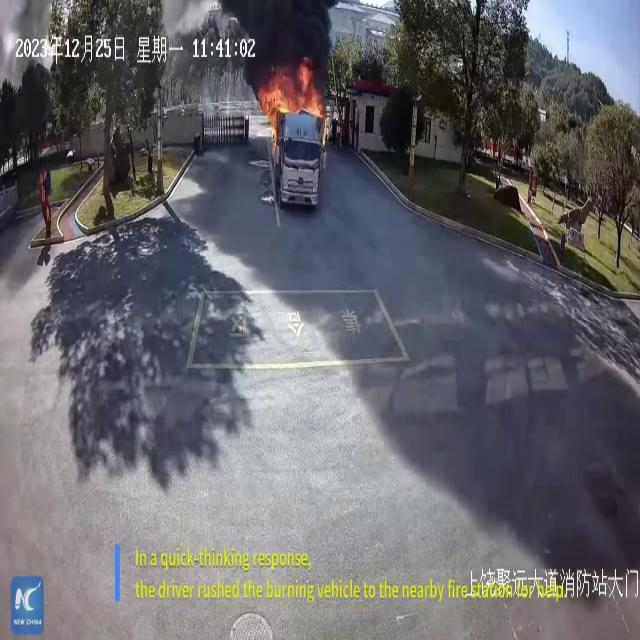Fire: (256, 64, 328, 137)
Smoke: (207, 0, 334, 70)
